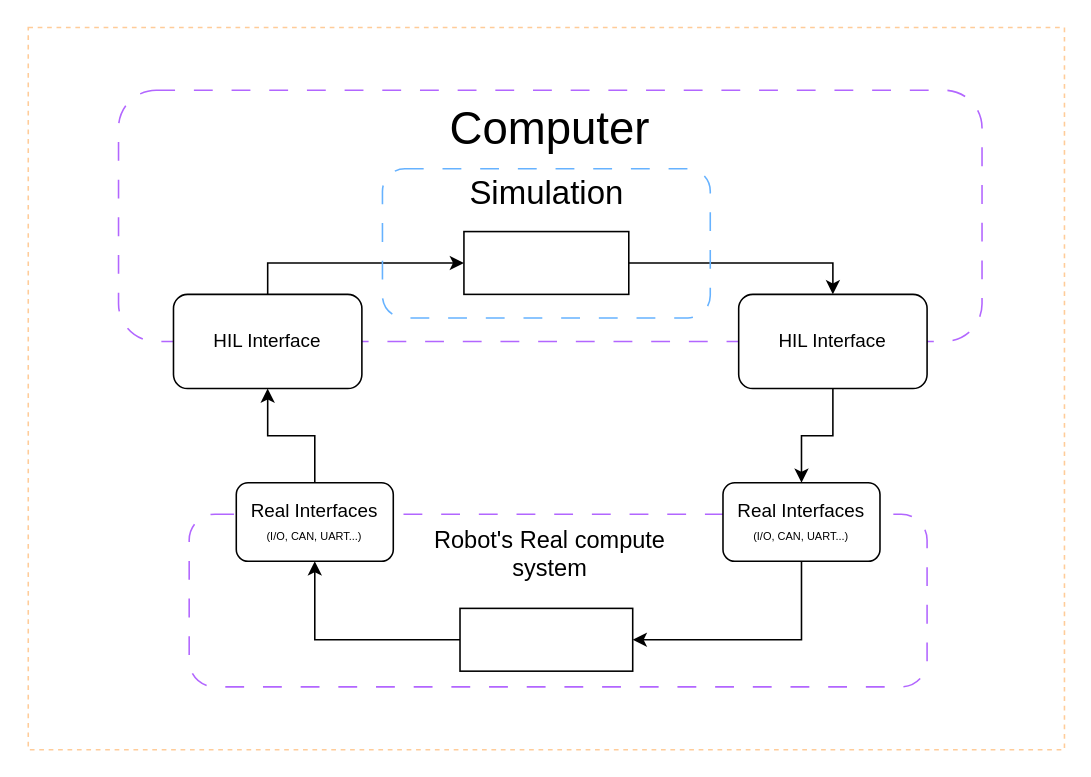
The diagram is 1091 pixels wide and 777 high, and some of its shapes have lost their labels. Each missing label, with the box of its shape:
Physics simulation: (462, 230, 629, 294)
Robot's Logic: (458, 607, 633, 671)
